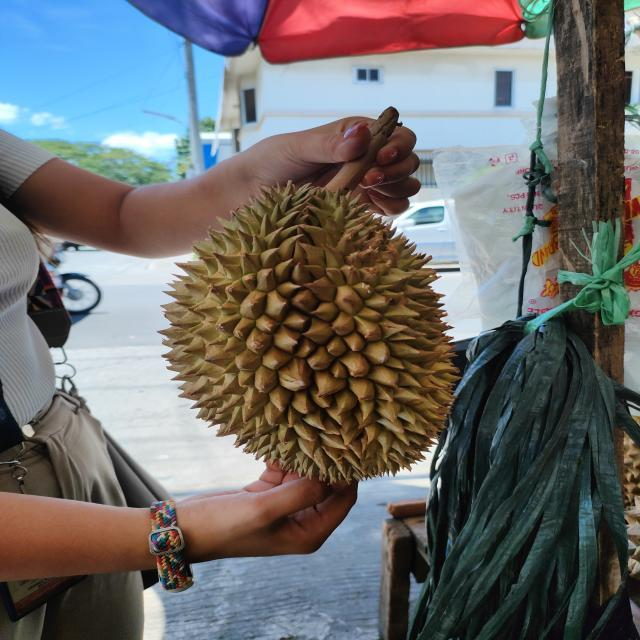mature: (161, 177, 463, 483)
